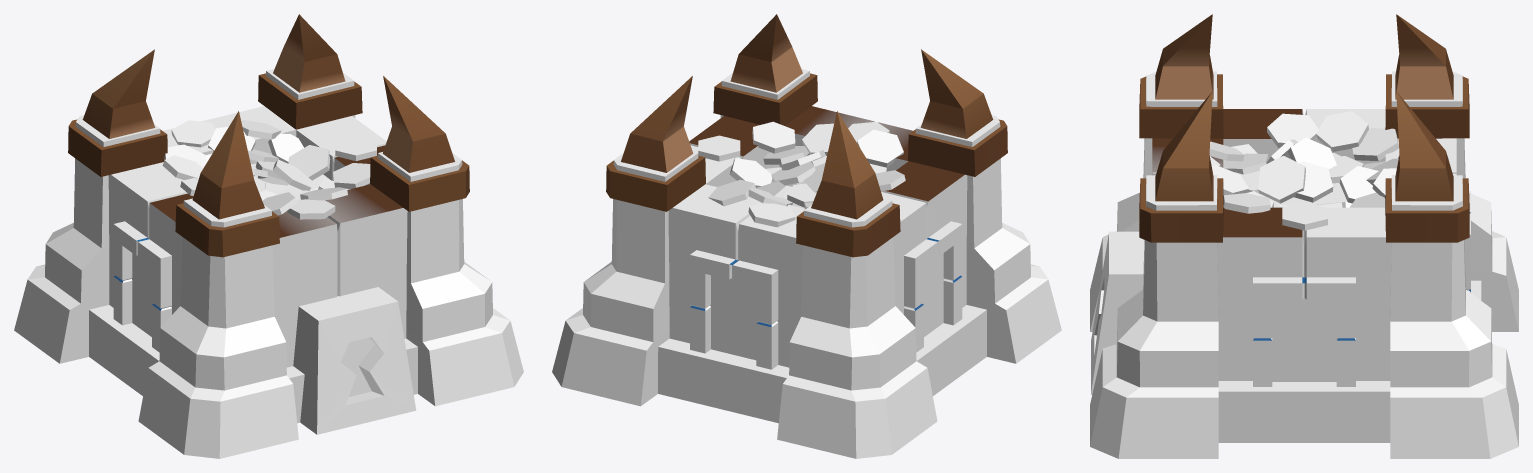
Rendered from Building_GoldMine_Lv5.fbx.
3 views of the same model, side by side, from view 1: azimuth 30°, elevation 25°; view 2: azimuth 150°, elevation 25°; view 3: azimuth 270°, elevation 25° (orthographic). The views are drawn at different scales.
Visible parts, largest first — view 1: Building_GoldMine_Lv5, gold_3; view 2: Building_GoldMine_Lv5, gold_3; view 3: Building_GoldMine_Lv5, gold_3.
Boxes of the visible parts, left/top/right/bottom form: Building_GoldMine_Lv5: left=14, top=14, right=523, bottom=458; gold_3: left=162, top=120, right=376, bottom=219; Building_GoldMine_Lv5: left=552, top=14, right=1061, bottom=458; gold_3: left=698, top=121, right=905, bottom=227; Building_GoldMine_Lv5: left=1090, top=14, right=1518, bottom=458; gold_3: left=1209, top=111, right=1448, bottom=230.
Bounding box in the file's own units: 0.8847 × 0.7187 × 0.8844.
